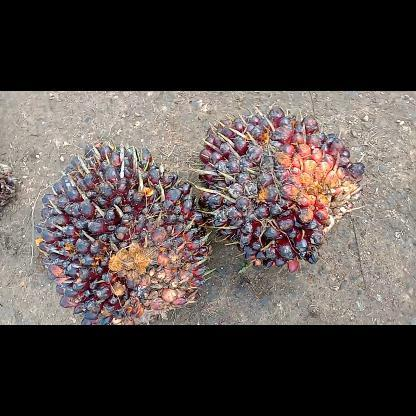Kurang masak: (34, 142, 216, 324), (196, 104, 366, 274)
